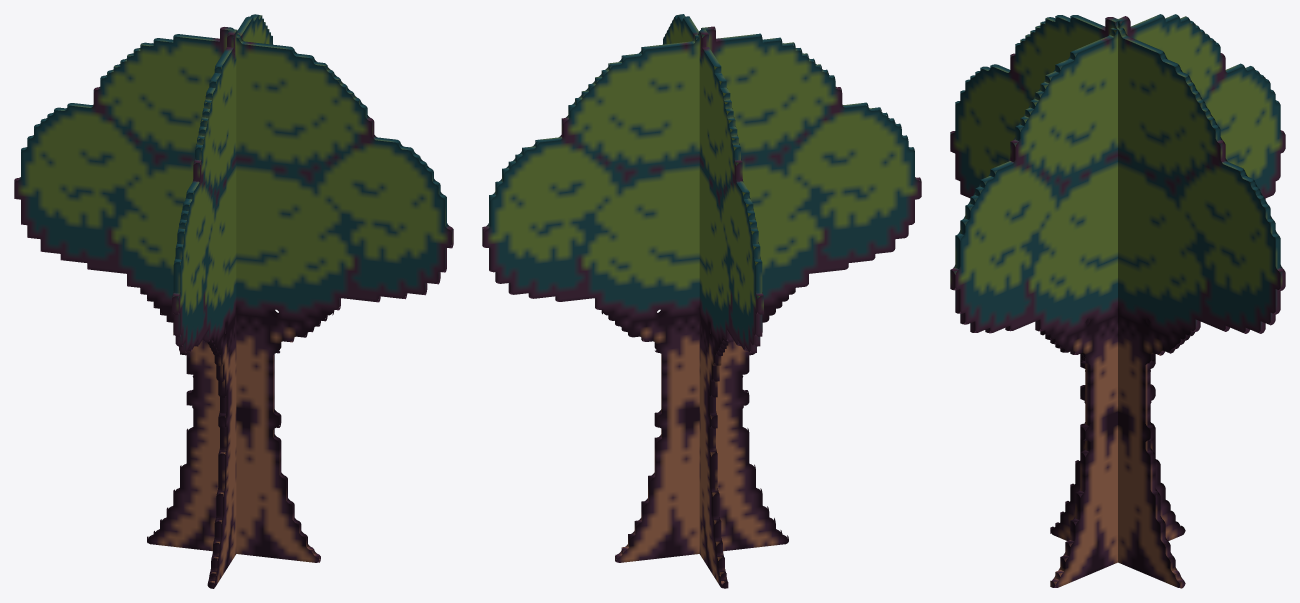
File: Tree.fbx
The picture shows the model from 3 angles, left to right: view 1: azimuth 30°, elevation 25°; view 2: azimuth 150°, elevation 25°; view 3: azimuth 270°, elevation 25°; orthographic projection. The views are drawn at different scales.
Parts seen in each view (by area): view 1: Cube, Cube.001; view 2: Cube.001, Cube; view 3: Cube, Cube.001.
Boxes of the visible parts, x1,y1,x2,y2 form: Cube: [14, 27, 453, 562]; Cube.001: [172, 14, 272, 588]; Cube.001: [482, 26, 921, 562]; Cube: [663, 14, 763, 588]; Cube: [950, 14, 1285, 587]; Cube.001: [950, 15, 1285, 588].
Size of the model in its own units: 474 by 474 by 840.
Materials: 2 (2 with a texture image).
